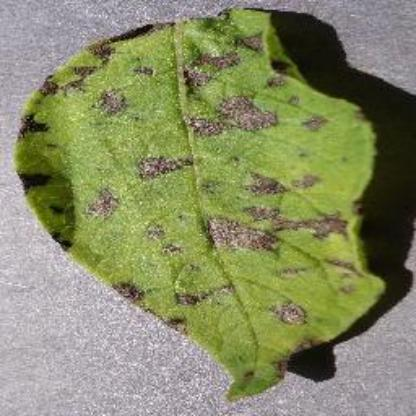Early-Blight: (15, 10, 387, 400)
